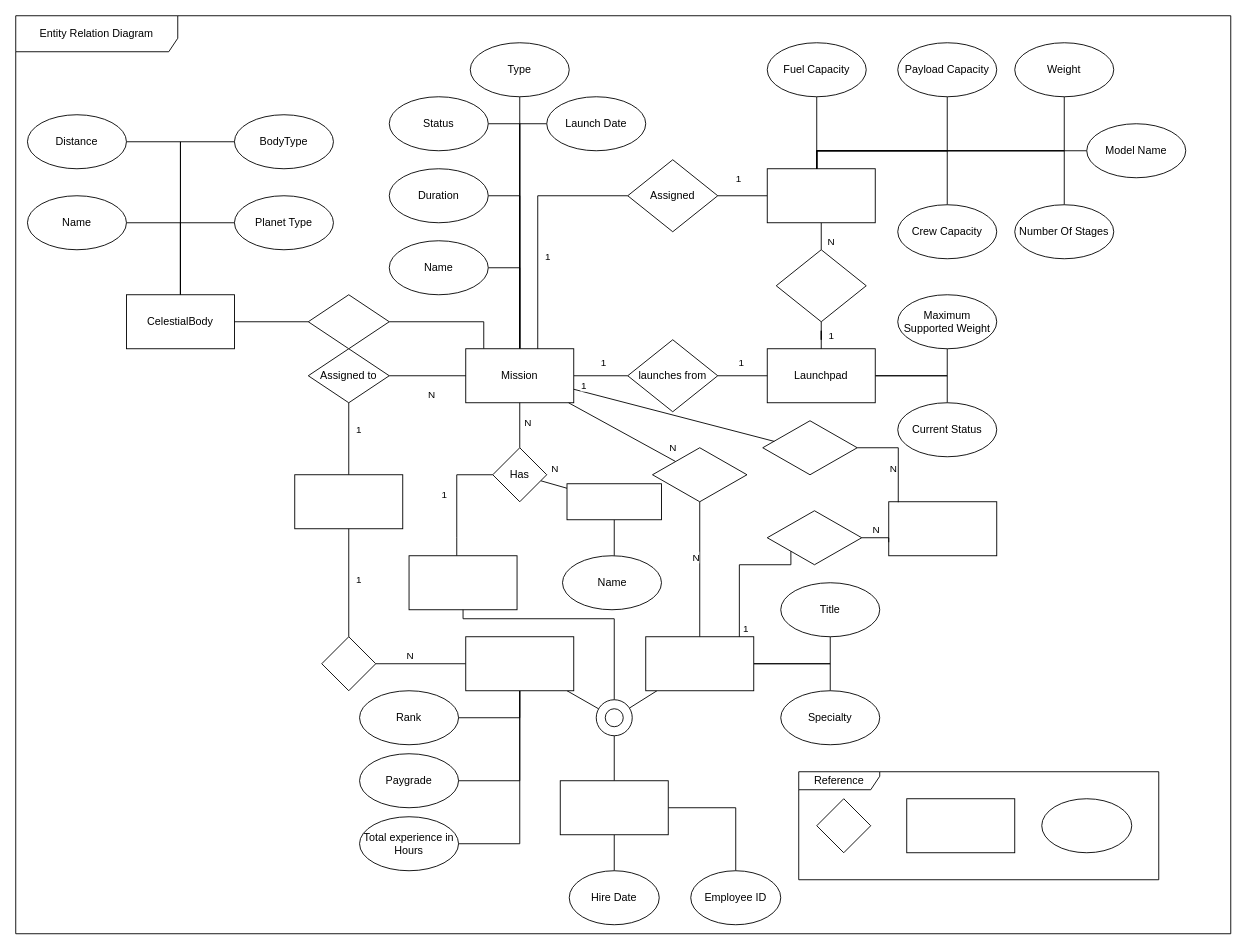
The diagram is 1247 pixels wide and 950 high, and some of its shapes have lost their labels. Here are the shapes that lost their labels. From the top down, the centre of each, then its label:
At point 820,195: "Rocket".
At point 820,285: "Number of launches".
At point 348,321: "Orbits or lands".
At point 809,447: "Has a".
At point 699,474: "Participates in".
At point 348,501: "Crew".
At point 614,501: "Department".
At point 814,537: "Creates a".
At point 942,528: "Experiment".
At point 462,582: "Manager".
At point 348,663: "Part of".
At point 519,663: "Astronaut".
At point 699,663: "Scientist".
At point 613,807: "Employee".
At point 843,825: "Action".
At point 960,825: "Entity".
At point 1086,825: "Attribute".
